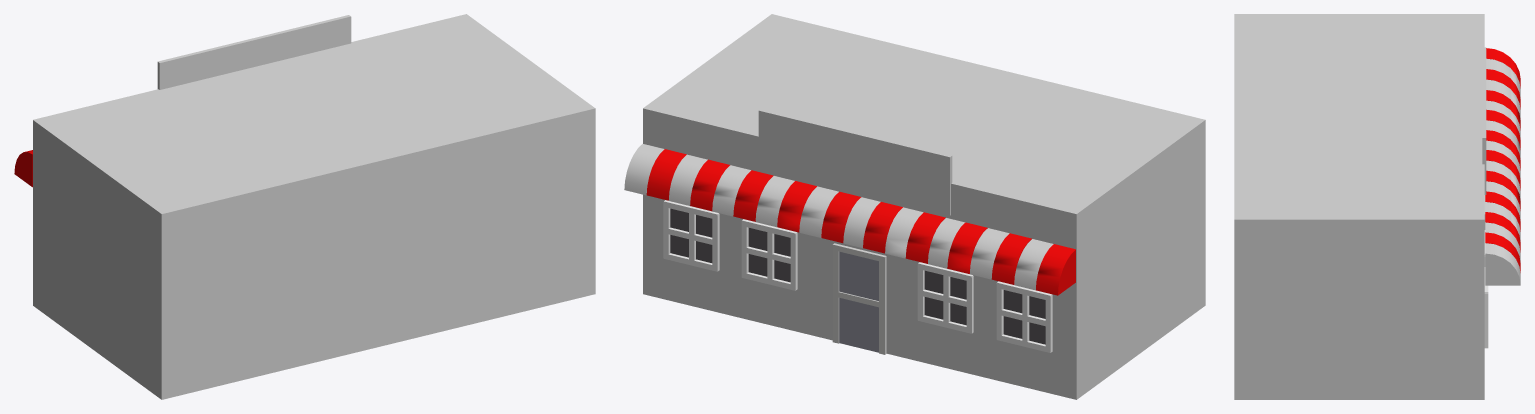
File: pho-tiem-banh.glb
3 views of the same model, side by side, from view 1: azimuth 30°, elevation 25°; view 2: azimuth 150°, elevation 25°; view 3: azimuth 270°, elevation 25° (orthographic). The views are drawn at different scales.
Parts seen in each view (by area): view 1: pho-tiem-banh; view 2: pho-tiem-banh; view 3: pho-tiem-banh.
Boxes of the visible parts, x1=… form: pho-tiem-banh: x1=14, y1=14, x2=595, y2=399; pho-tiem-banh: x1=624, y1=14, x2=1205, y2=399; pho-tiem-banh: x1=1234, y1=14, x2=1520, y2=399.
Size of the model in its own units: 28.2 by 13.21 by 16.61.
